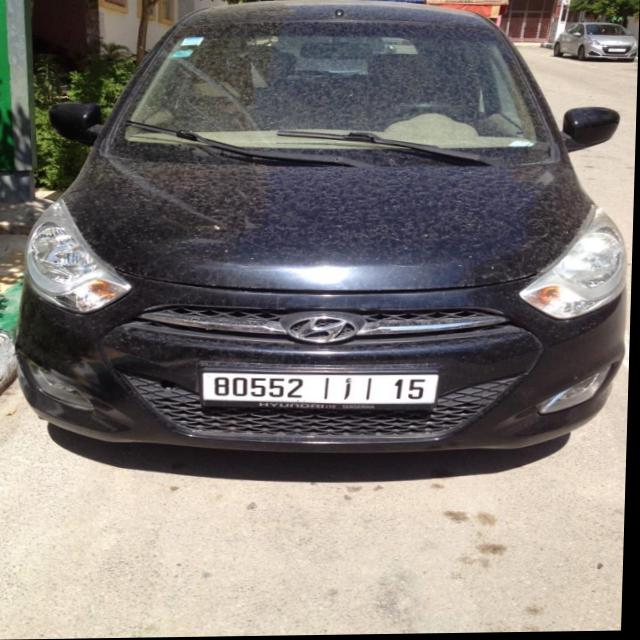License-Plate: (204, 373, 441, 411)
